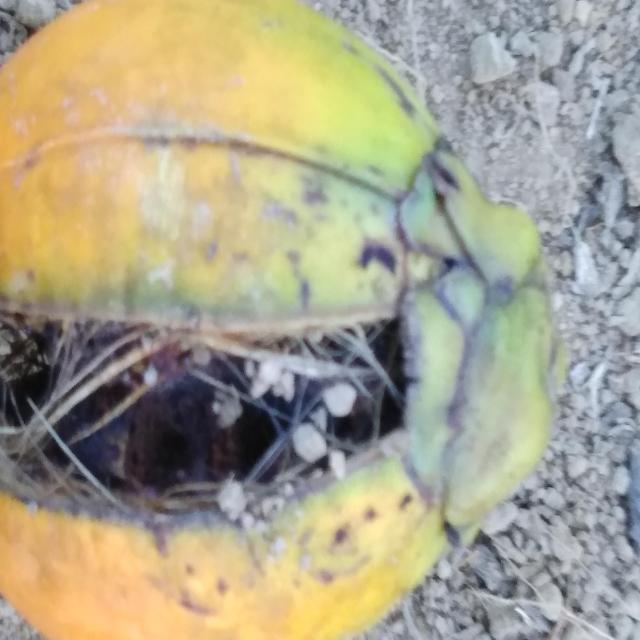damaged: (0, 0, 565, 640)
